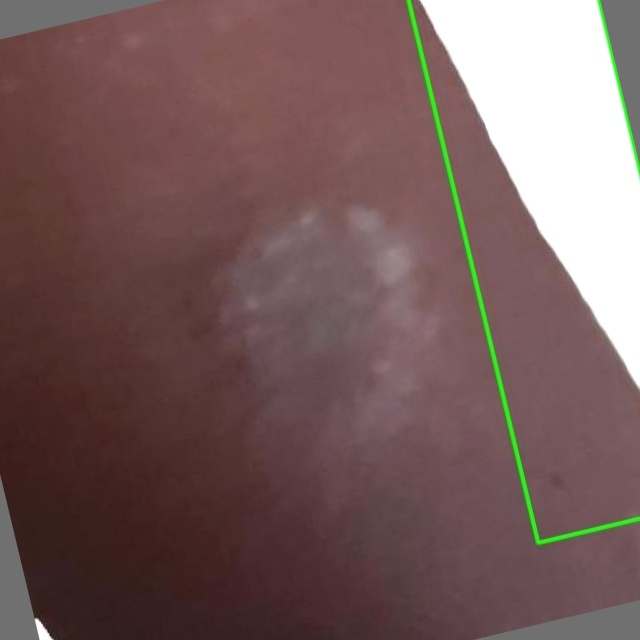Contact Dermatitis: (408, 0, 639, 542)
